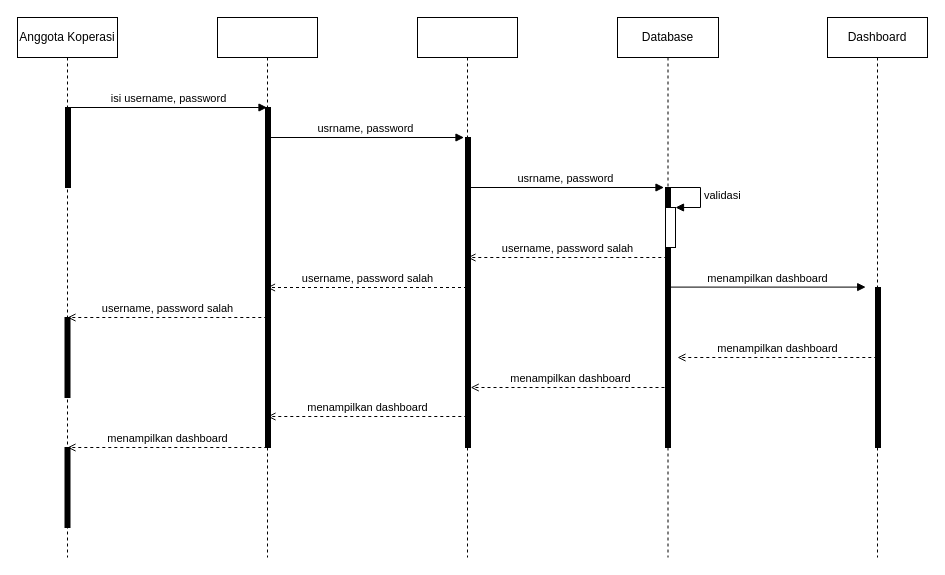
Some shapes in this 945 by 575 pixel diagram are drawn without their labels. The shapes that lost their labels are listed below. From the top down, each one's box as (x1, y1, x2, y2) in pixels, then its label:
(216, 16, 318, 558): User Login
(416, 16, 518, 558): Sistem
